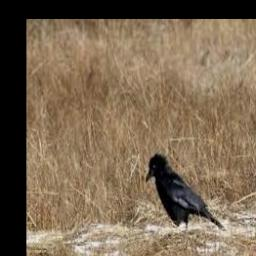Crow: (146, 151, 225, 232)
